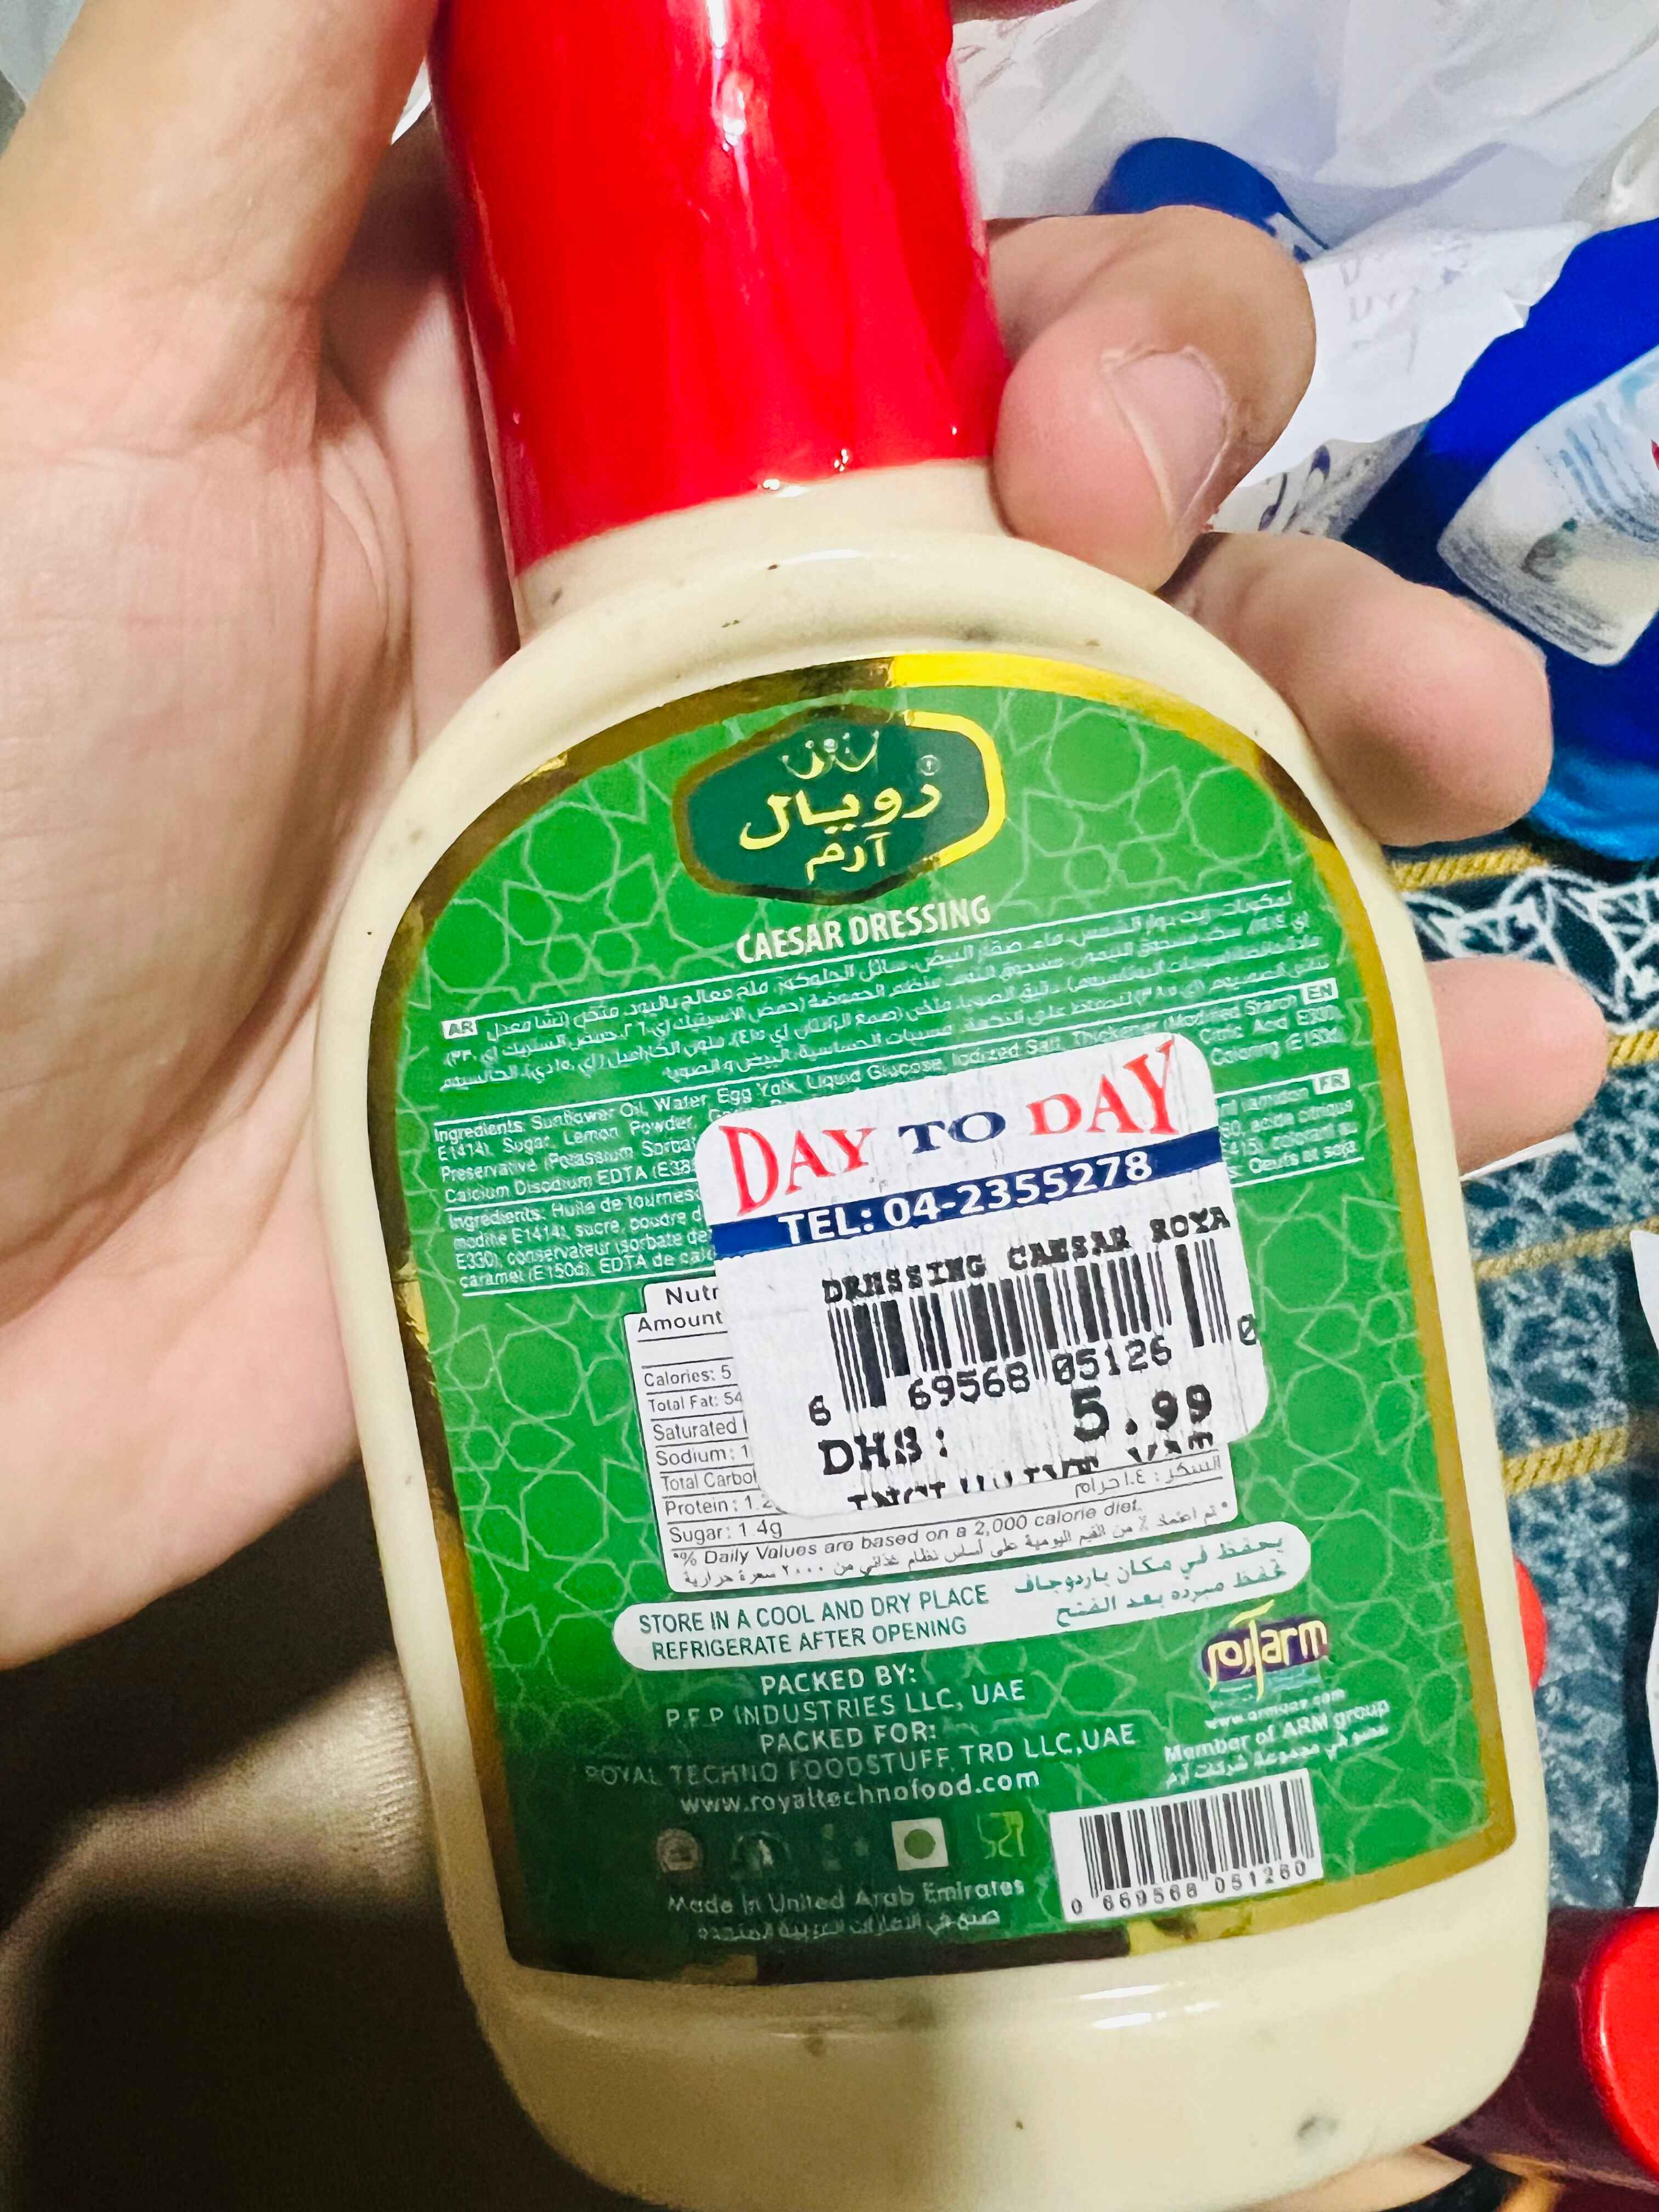PriceTagBig: (690, 1042, 1288, 1524)
